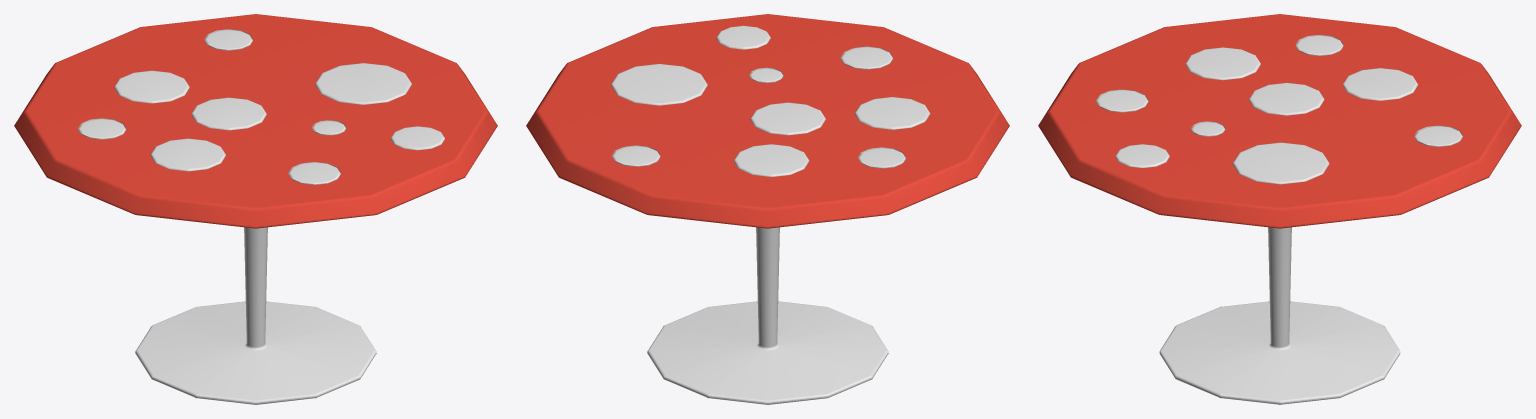
File: deco_table.fbx
3 renders of one model, left to right at view 1: azimuth 30°, elevation 25°; view 2: azimuth 150°, elevation 25°; view 3: azimuth 270°, elevation 25°, orthographic.
Visible parts, largest first — view 1: deco_table; view 2: deco_table; view 3: deco_table.
Part boxes in pixels (left/top/right/bottom): deco_table: left=14, top=14, right=497, bottom=404; deco_table: left=526, top=14, right=1009, bottom=404; deco_table: left=1038, top=14, right=1521, bottom=404.
Size of the model in its own units: 178 by 178 by 99.1.
